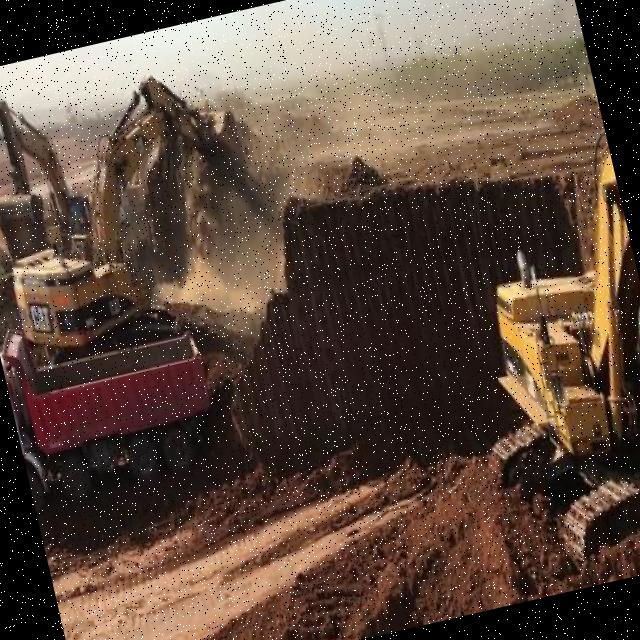Dump Truck: (3, 314, 236, 506)
Excavator: (408, 78, 640, 576), (0, 48, 303, 357), (0, 74, 96, 251)
